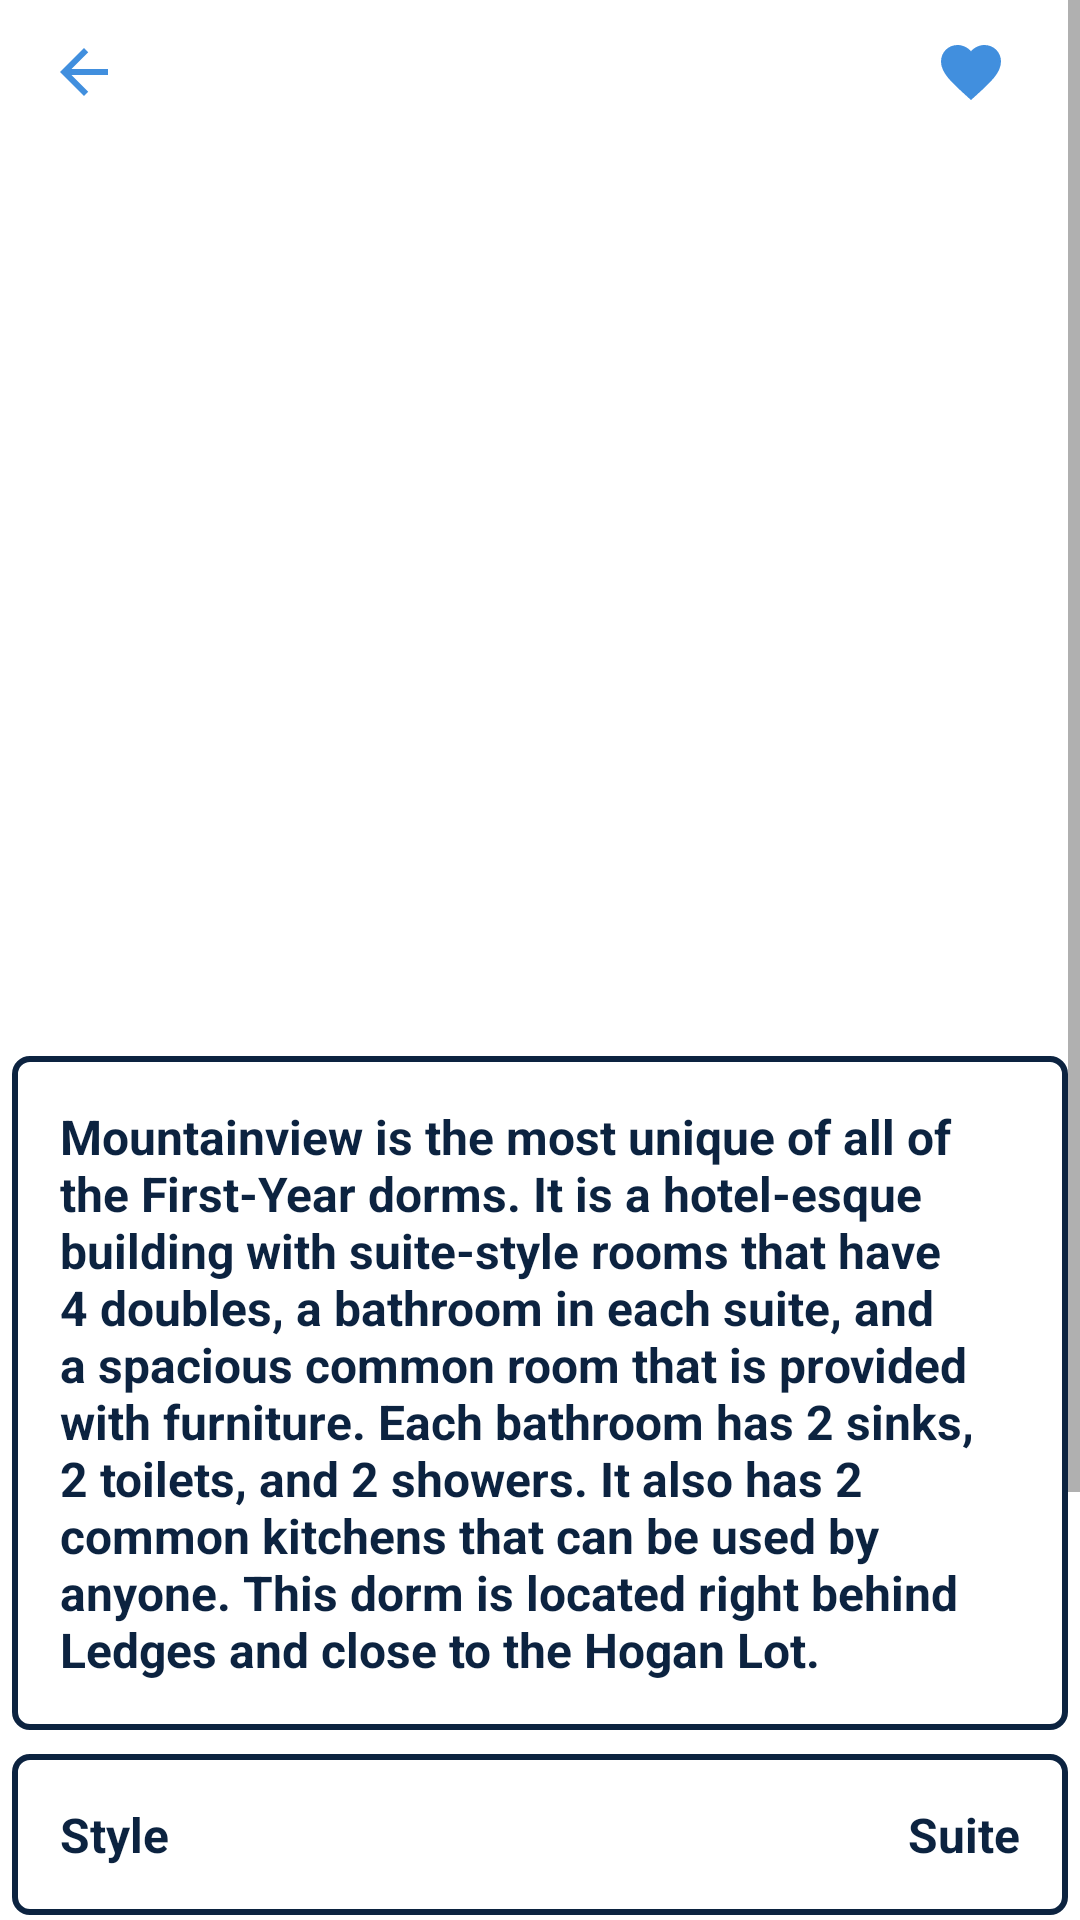

Named icons in this screenshot (1080×1920) and their bounding boxes, (x1, y1, x2, y2):
Back: (60, 48, 108, 96)
favorite: (941, 45, 1001, 100)
